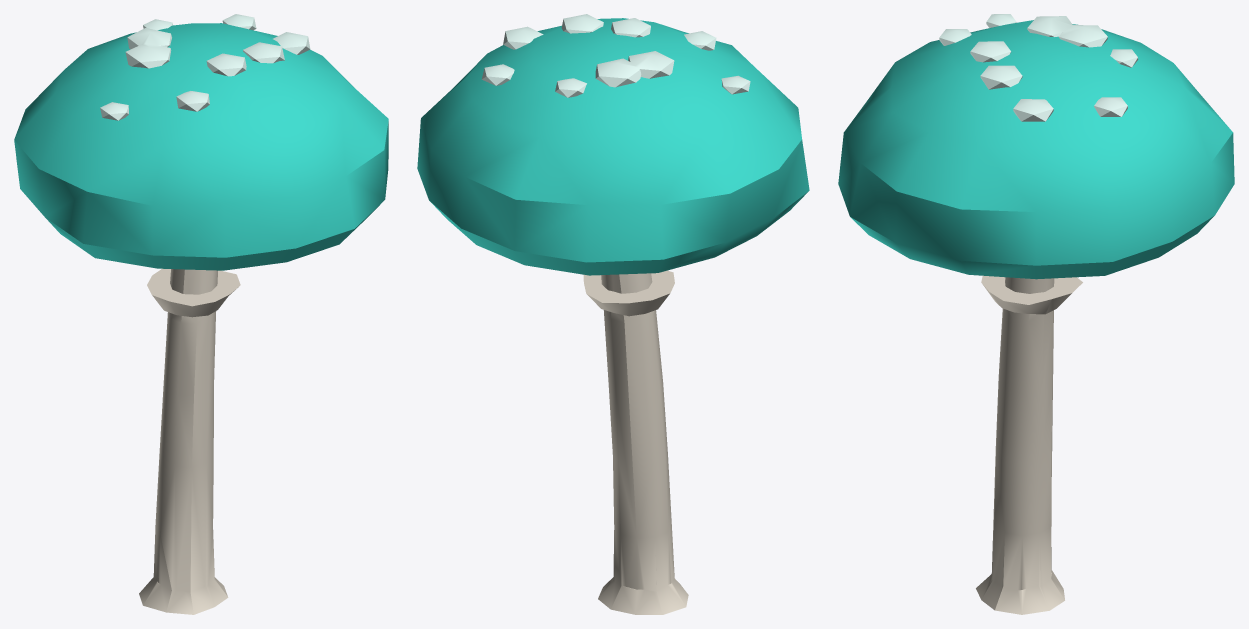
File: GiantMushroom.fbx
The picture shows the model from 3 angles, left to right: view 1: azimuth 30°, elevation 25°; view 2: azimuth 150°, elevation 25°; view 3: azimuth 270°, elevation 25°; orthographic projection. The views are drawn at different scales.
Visible parts, largest first — view 1: Cap, Stem, Spots; view 2: Cap, Stem, Spots; view 3: Cap, Stem, Spots.
Part boxes in pixels (x1,y1,x2,y2): Cap: [14, 23, 388, 270]; Stem: [139, 268, 240, 614]; Spots: [100, 14, 310, 120]; Cap: [417, 18, 809, 275]; Stem: [583, 270, 688, 614]; Spots: [481, 14, 750, 97]; Cap: [838, 20, 1234, 279]; Stem: [976, 275, 1082, 614]; Spots: [939, 14, 1138, 121].
Size of the model in its own units: 43.83 by 70.47 by 44.74.
